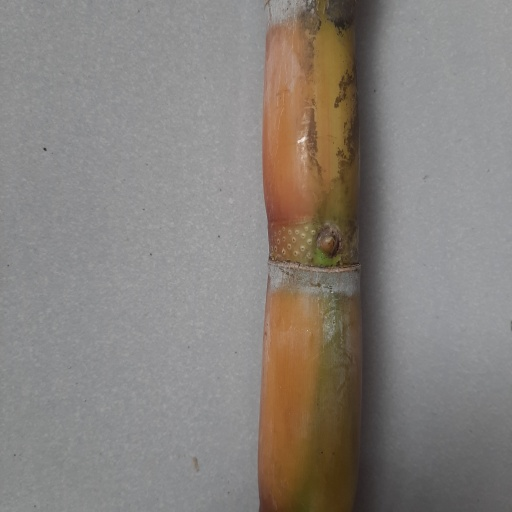Bud: (315, 228, 339, 259)
